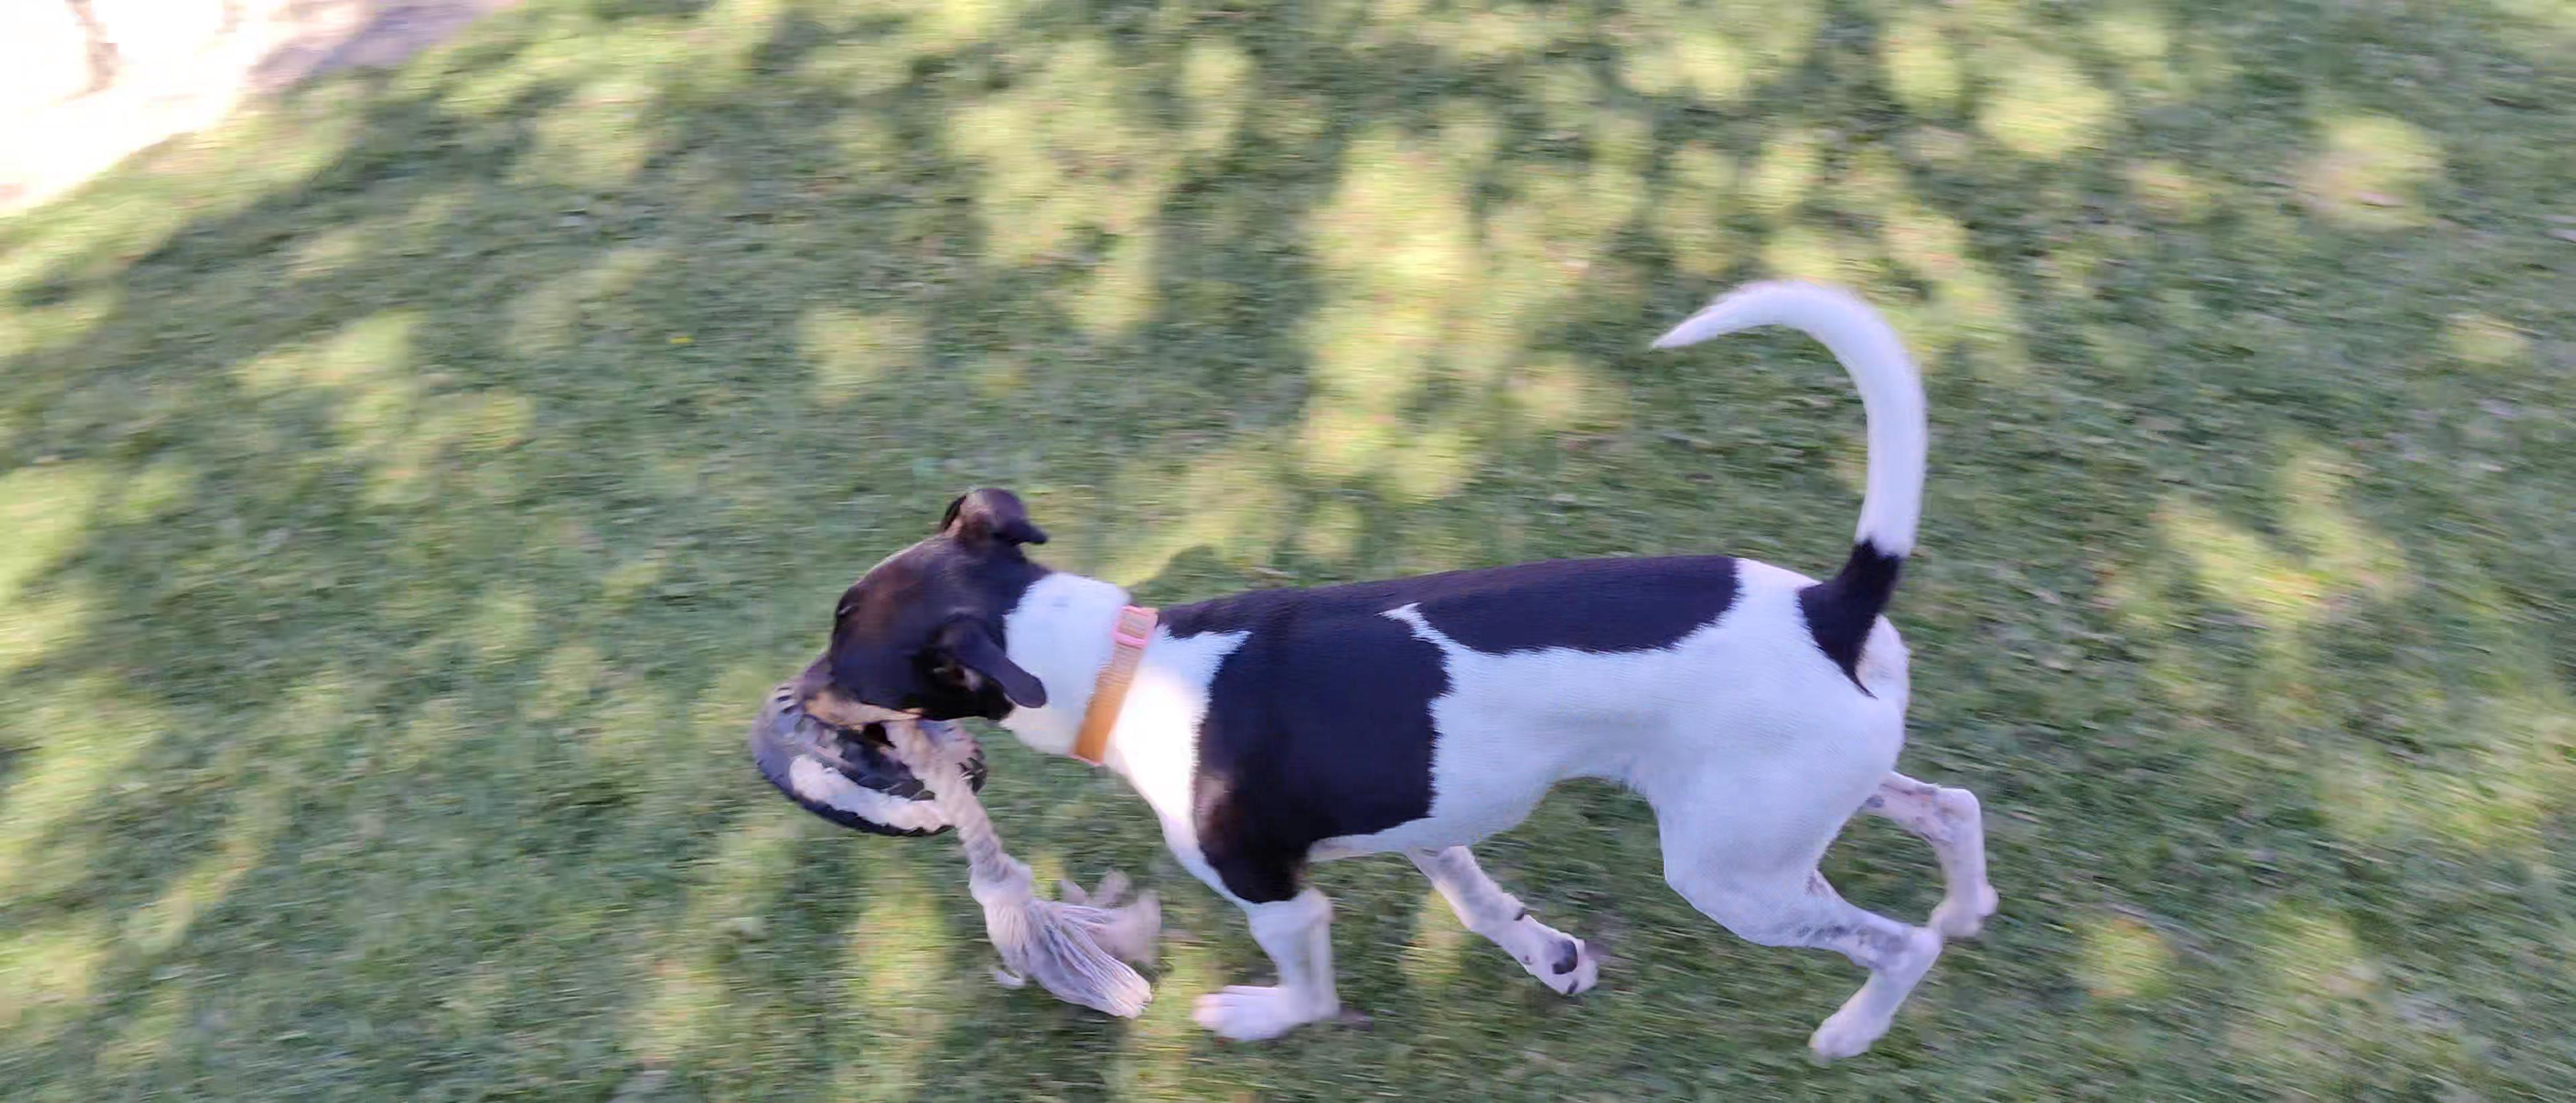Dog: (793, 265, 2001, 1065)
